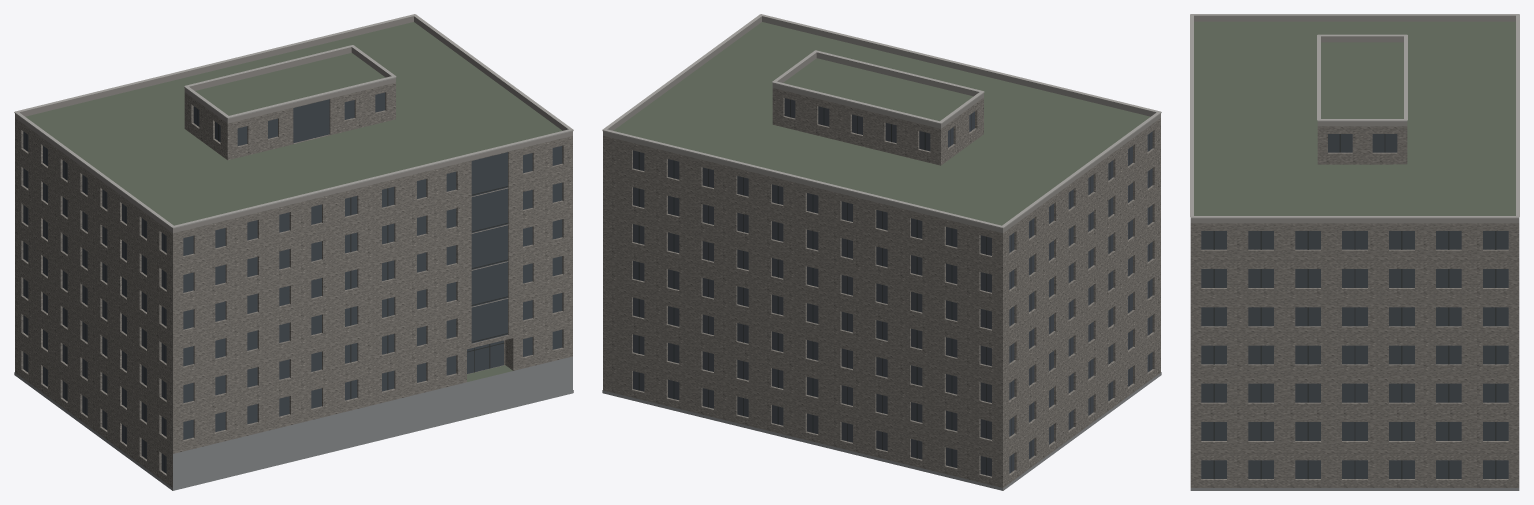
3 renders of one model, left to right at view 1: azimuth 30°, elevation 25°; view 2: azimuth 150°, elevation 25°; view 3: azimuth 270°, elevation 25°, orthographic. The views are drawn at different scales.
Visible parts, largest first — view 1: library__wall, library__roof, library__glass, library__base, library__parapet, library__trim, library__frame; view 2: library__wall, library__roof, library__glass, library__parapet, library__trim, library__frame, library__base; view 3: library__wall, library__roof, library__glass, library__parapet, library__trim, library__frame, library__base.
Part boxes in pixels (bbox=[...]): library__wall: bbox=[15, 82, 572, 490]; library__roof: bbox=[25, 22, 562, 418]; library__glass: bbox=[23, 92, 562, 473]; library__base: bbox=[14, 356, 573, 490]; library__parapet: bbox=[15, 16, 572, 233]; library__trim: bbox=[14, 14, 573, 228]; library__frame: bbox=[26, 109, 508, 472]; library__wall: bbox=[603, 88, 1160, 490]; library__roof: bbox=[613, 22, 1150, 225]; library__glass: bbox=[633, 98, 1152, 476]; library__parapet: bbox=[603, 16, 1160, 233]; library__trim: bbox=[602, 14, 1161, 228]; library__frame: bbox=[638, 99, 1149, 475]; library__base: bbox=[602, 372, 1161, 490]; library__wall: bbox=[1190, 126, 1519, 487]; library__roof: bbox=[1194, 21, 1515, 215]; library__glass: bbox=[1201, 134, 1508, 478]; library__parapet: bbox=[1190, 15, 1519, 223]; library__trim: bbox=[1190, 14, 1519, 218]; library__frame: bbox=[1213, 134, 1496, 479]; library__base: bbox=[1190, 488, 1519, 490].
Bounding box in the file's own units: 43.4 × 31.02 × 29.73.
8 materials, 1 textured.
